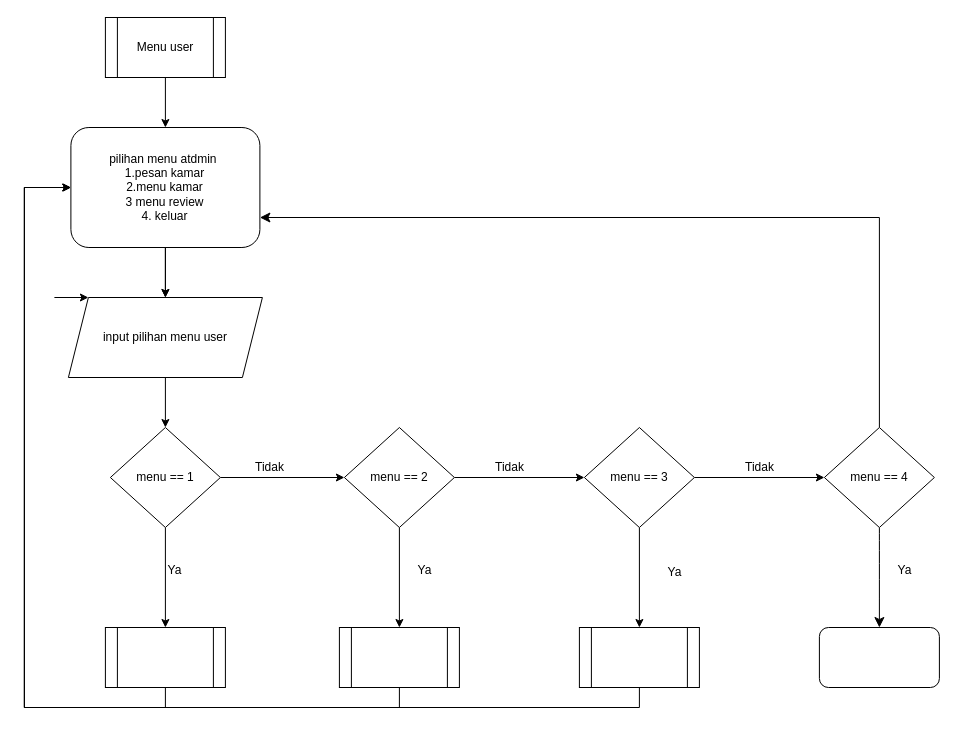
The diagram is 957 pixels wide and 733 high, and some of its shapes have lost their labels. Each missing label, with the centre of its shape:
"menu kamar" goes at [398,657].
"menu review" goes at [638,657].
"pesan kamar" goes at [164,657].
"program kelola kos kos an" goes at [878,657].
